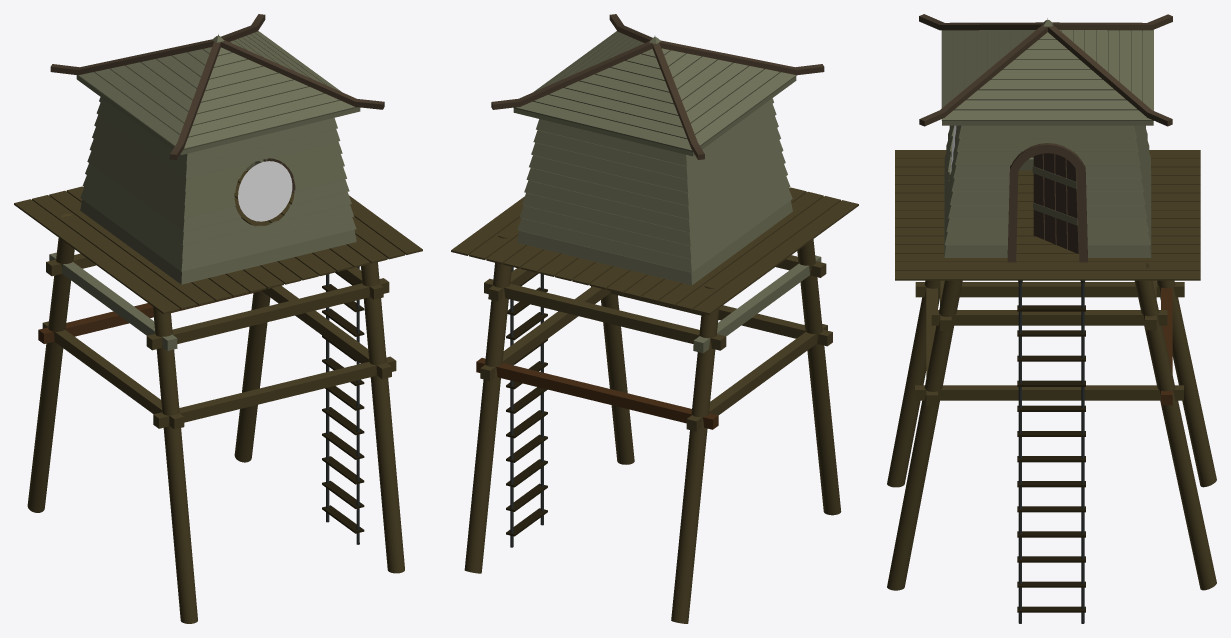
File: watchtower.glb
The picture shows the model from 3 angles, left to right: view 1: azimuth 30°, elevation 25°; view 2: azimuth 150°, elevation 25°; view 3: azimuth 270°, elevation 25°; orthographic projection. The views are drawn at different scales.
Visible parts, largest first — view 1: Hut, wooden floor, direct, direct2, roofbos, direct6, direct5, step, Window, direct4, Cube_020, direct3 (+3 smaller); view 2: Hut, wooden floor, direct2, direct, roofbos, Cube_019, direct7, step, direct4, Cube_020, direct3, direct5 (+2 smaller); view 3: Hut, wooden floor, direct2, direct, step, roofbos, door, direct3, Cube_018, direct4, walldoor, handle2 (+3 smaller).
Boxes of the visible parts, x1,y1,x2,y2 form: Hut: [76, 31, 360, 284]; wooden floor: [14, 169, 422, 314]; direct: [153, 262, 404, 623]; direct2: [27, 214, 270, 512]; roofbos: [50, 14, 384, 160]; direct6: [146, 278, 389, 350]; direct5: [153, 356, 396, 428]; step: [322, 272, 364, 533]; Window: [238, 161, 292, 221]; direct4: [42, 321, 184, 429]; Cube_020: [49, 252, 177, 350]; direct3: [261, 285, 391, 379]; Hut: [513, 31, 796, 285]; wooden floor: [451, 187, 858, 314]; direct2: [464, 235, 719, 623]; direct: [601, 239, 841, 515]; roofbos: [491, 14, 824, 159]; Cube_019: [484, 278, 726, 350]; direct7: [476, 358, 718, 429]; step: [506, 273, 547, 536]; direct4: [686, 324, 827, 431]; Cube_020: [693, 255, 821, 353]; direct3: [480, 286, 609, 380]; direct5: [591, 286, 832, 346]; Hut: [941, 18, 1153, 257]; wooden floor: [895, 150, 1200, 280]; direct2: [1134, 263, 1216, 590]; direct: [887, 280, 962, 590]; step: [1017, 305, 1085, 612]; roofbos: [919, 14, 1172, 126]; door: [1032, 153, 1079, 253]; direct3: [915, 385, 1183, 400]; Cube_018: [931, 310, 1167, 325]; direct4: [915, 282, 1184, 297]; walldoor: [1007, 143, 1087, 262]; handle2: [1080, 280, 1084, 623].
Bounding box in the file's own units: 1.43 × 2.79 × 1.54.
